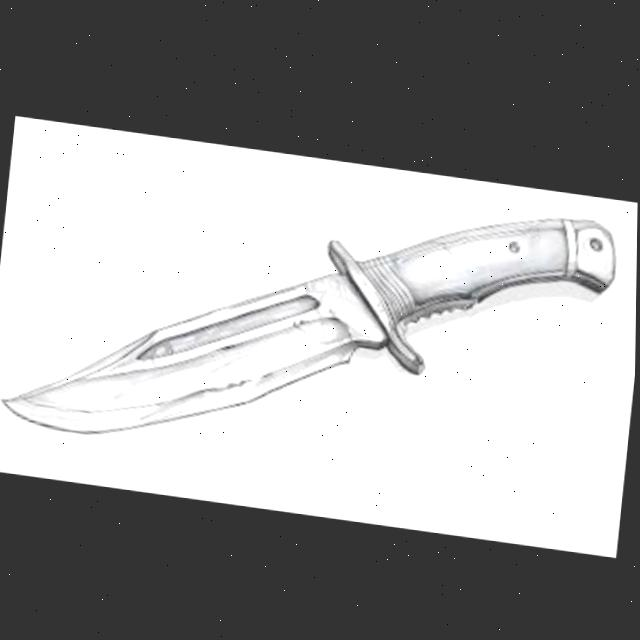Knife: (0, 138, 621, 499)
